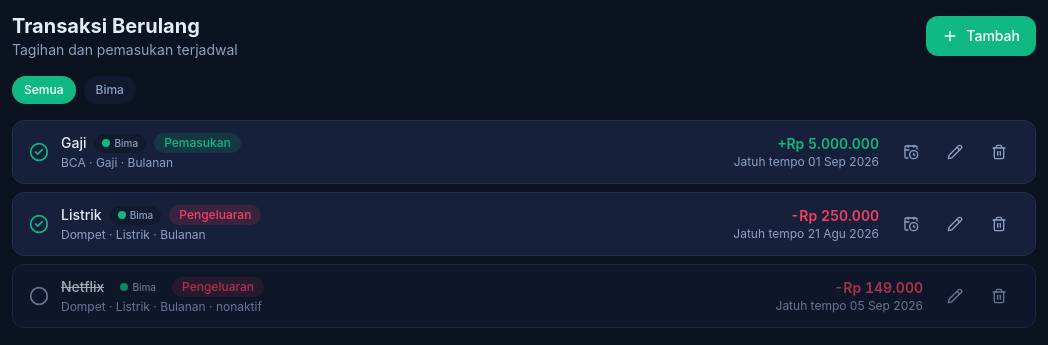
it: RecurringPage › records now: creates a transaction with todays date then advances next_due_date
expect the text "Gaji" is shown: met, box [61,133,86,153]
Click the button named "Catat sekarang" next to "Rp 5.000.000".
click(911, 152)  # box [891,138,931,166]
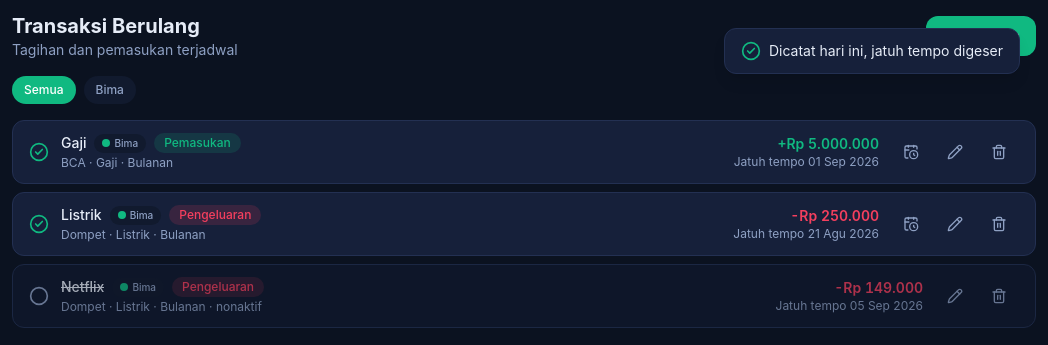
expect the text "Dicatat hari ini, jatuh tempo digeser" is shown: met, box [769,41,1003,61]
